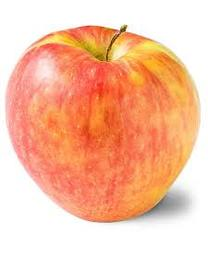apple: (5, 26, 202, 223)
